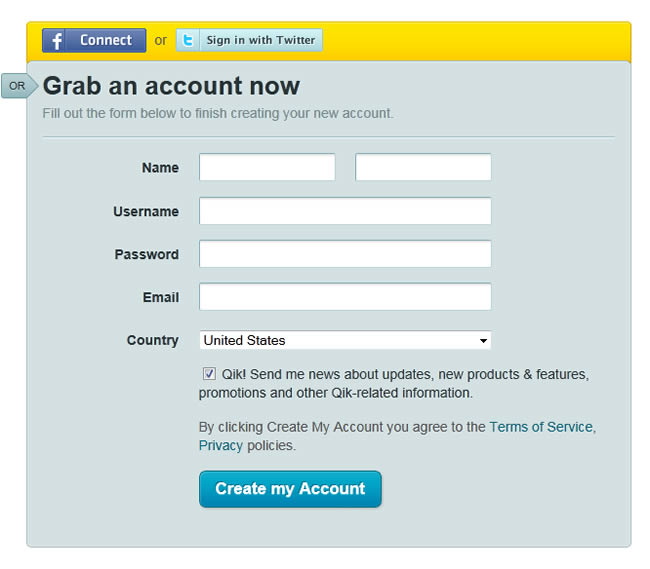_form_: (104, 117, 592, 530)
button: (198, 469, 383, 508)
checkbox: (202, 367, 219, 380)
checkbox_with_label: (199, 363, 589, 382)
field: (197, 195, 492, 226), (196, 239, 492, 268), (197, 282, 492, 311), (199, 330, 492, 350), (354, 152, 493, 181), (199, 152, 336, 181)
field_with_label: (115, 194, 494, 228), (114, 238, 495, 270), (142, 280, 495, 313), (127, 328, 496, 353), (143, 150, 338, 182)
